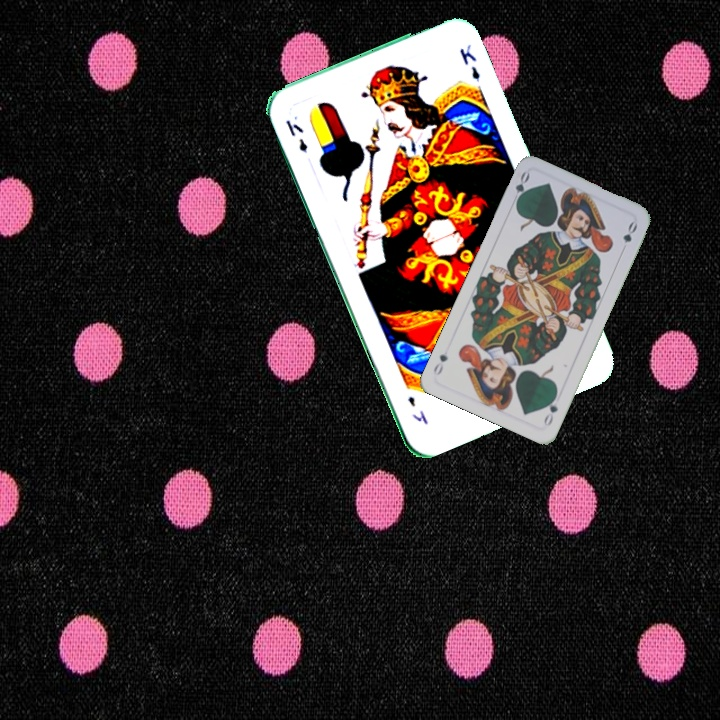EK: (281, 116, 311, 155)
GO: (508, 168, 532, 208), (540, 389, 561, 429)
